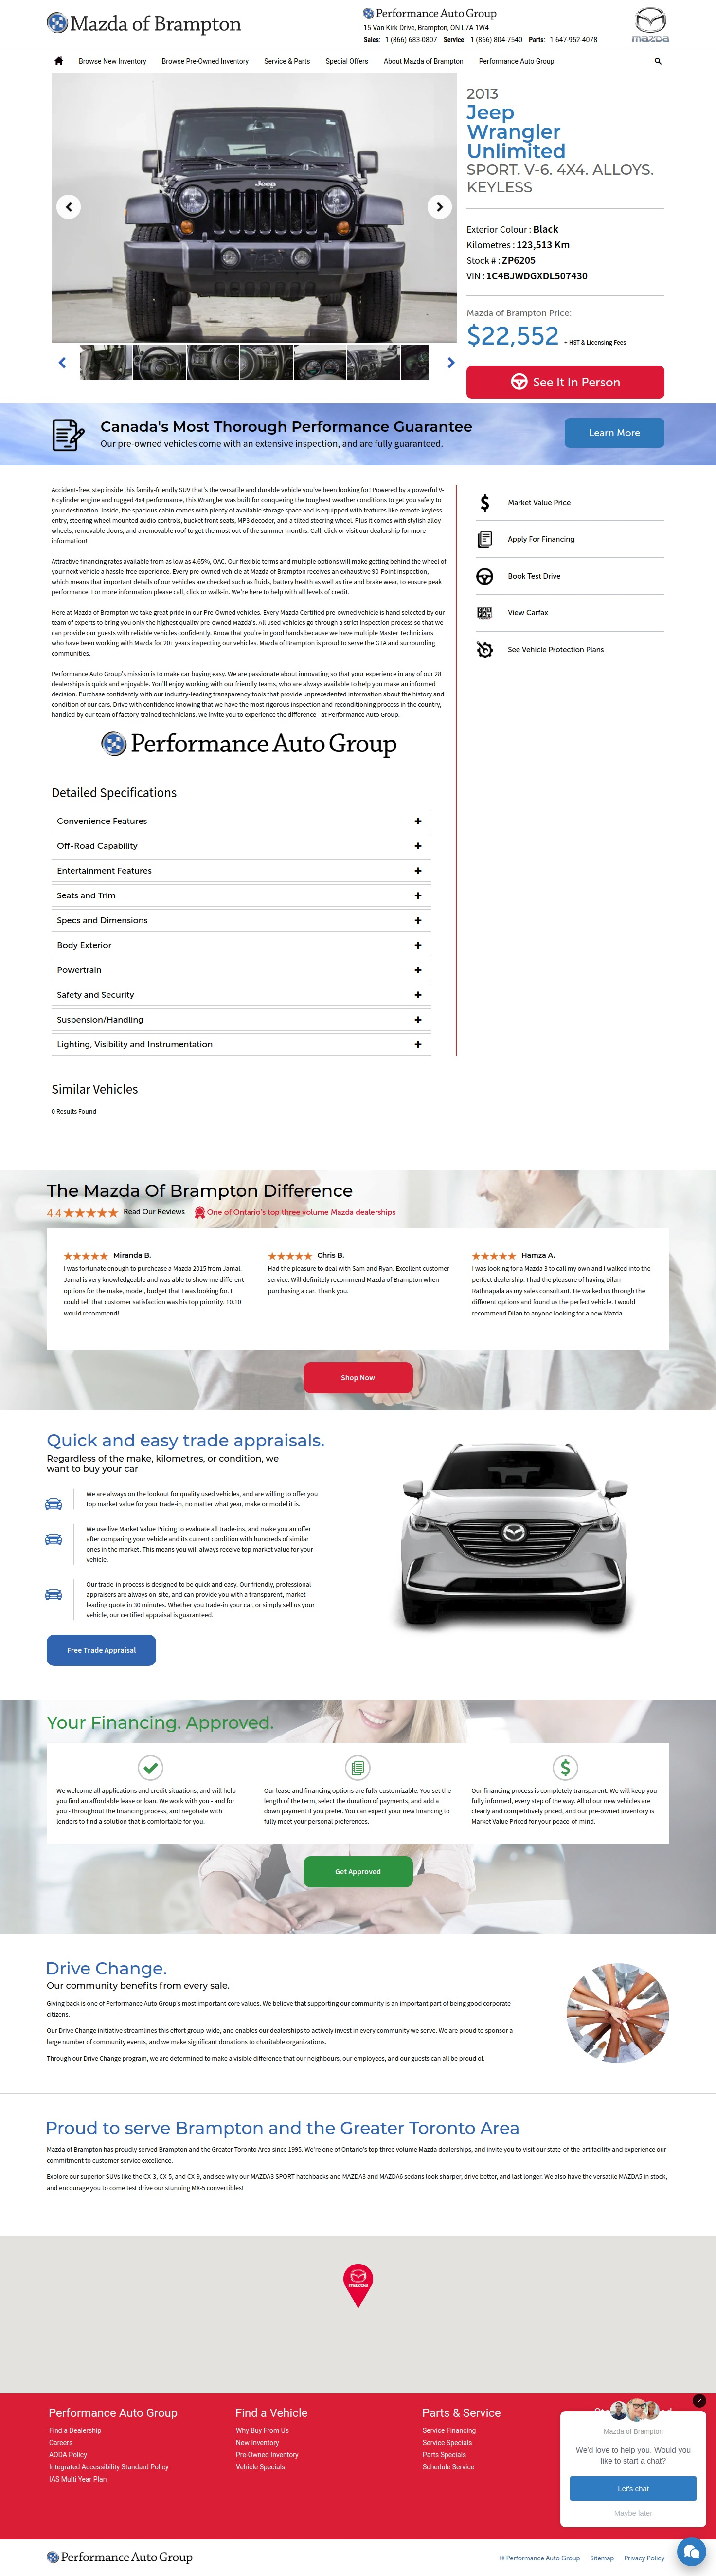car: (447, 356, 457, 370)
